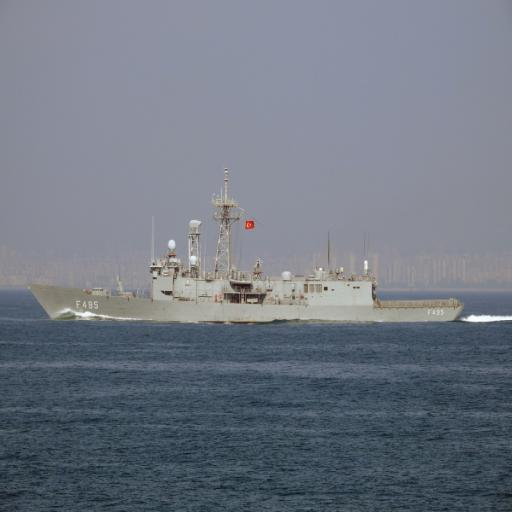Fragata: (27, 169, 465, 328)
